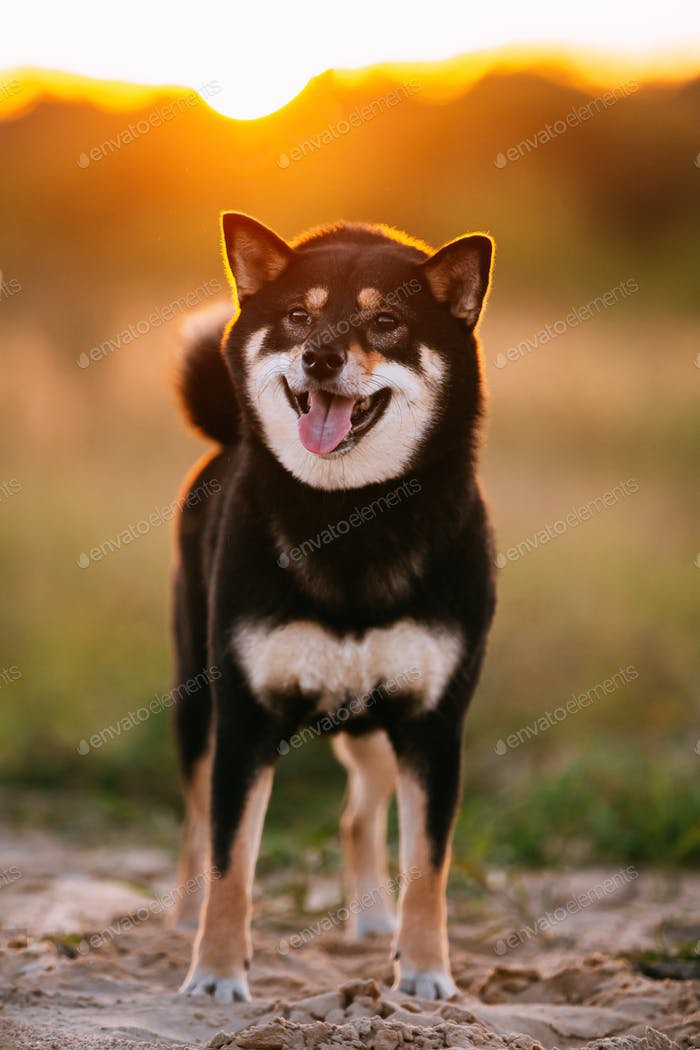dog: (126, 192, 515, 1002)
